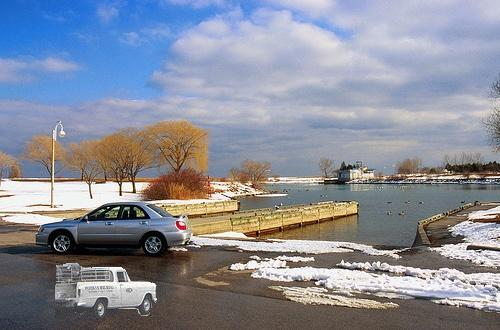tampered: (56, 264, 157, 319)
